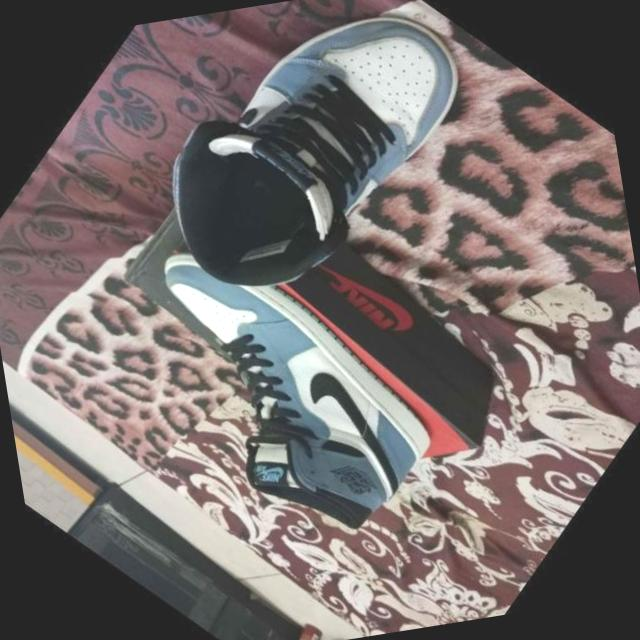nike_fake_jordan: (68, 190, 478, 598), (99, 0, 526, 357)
